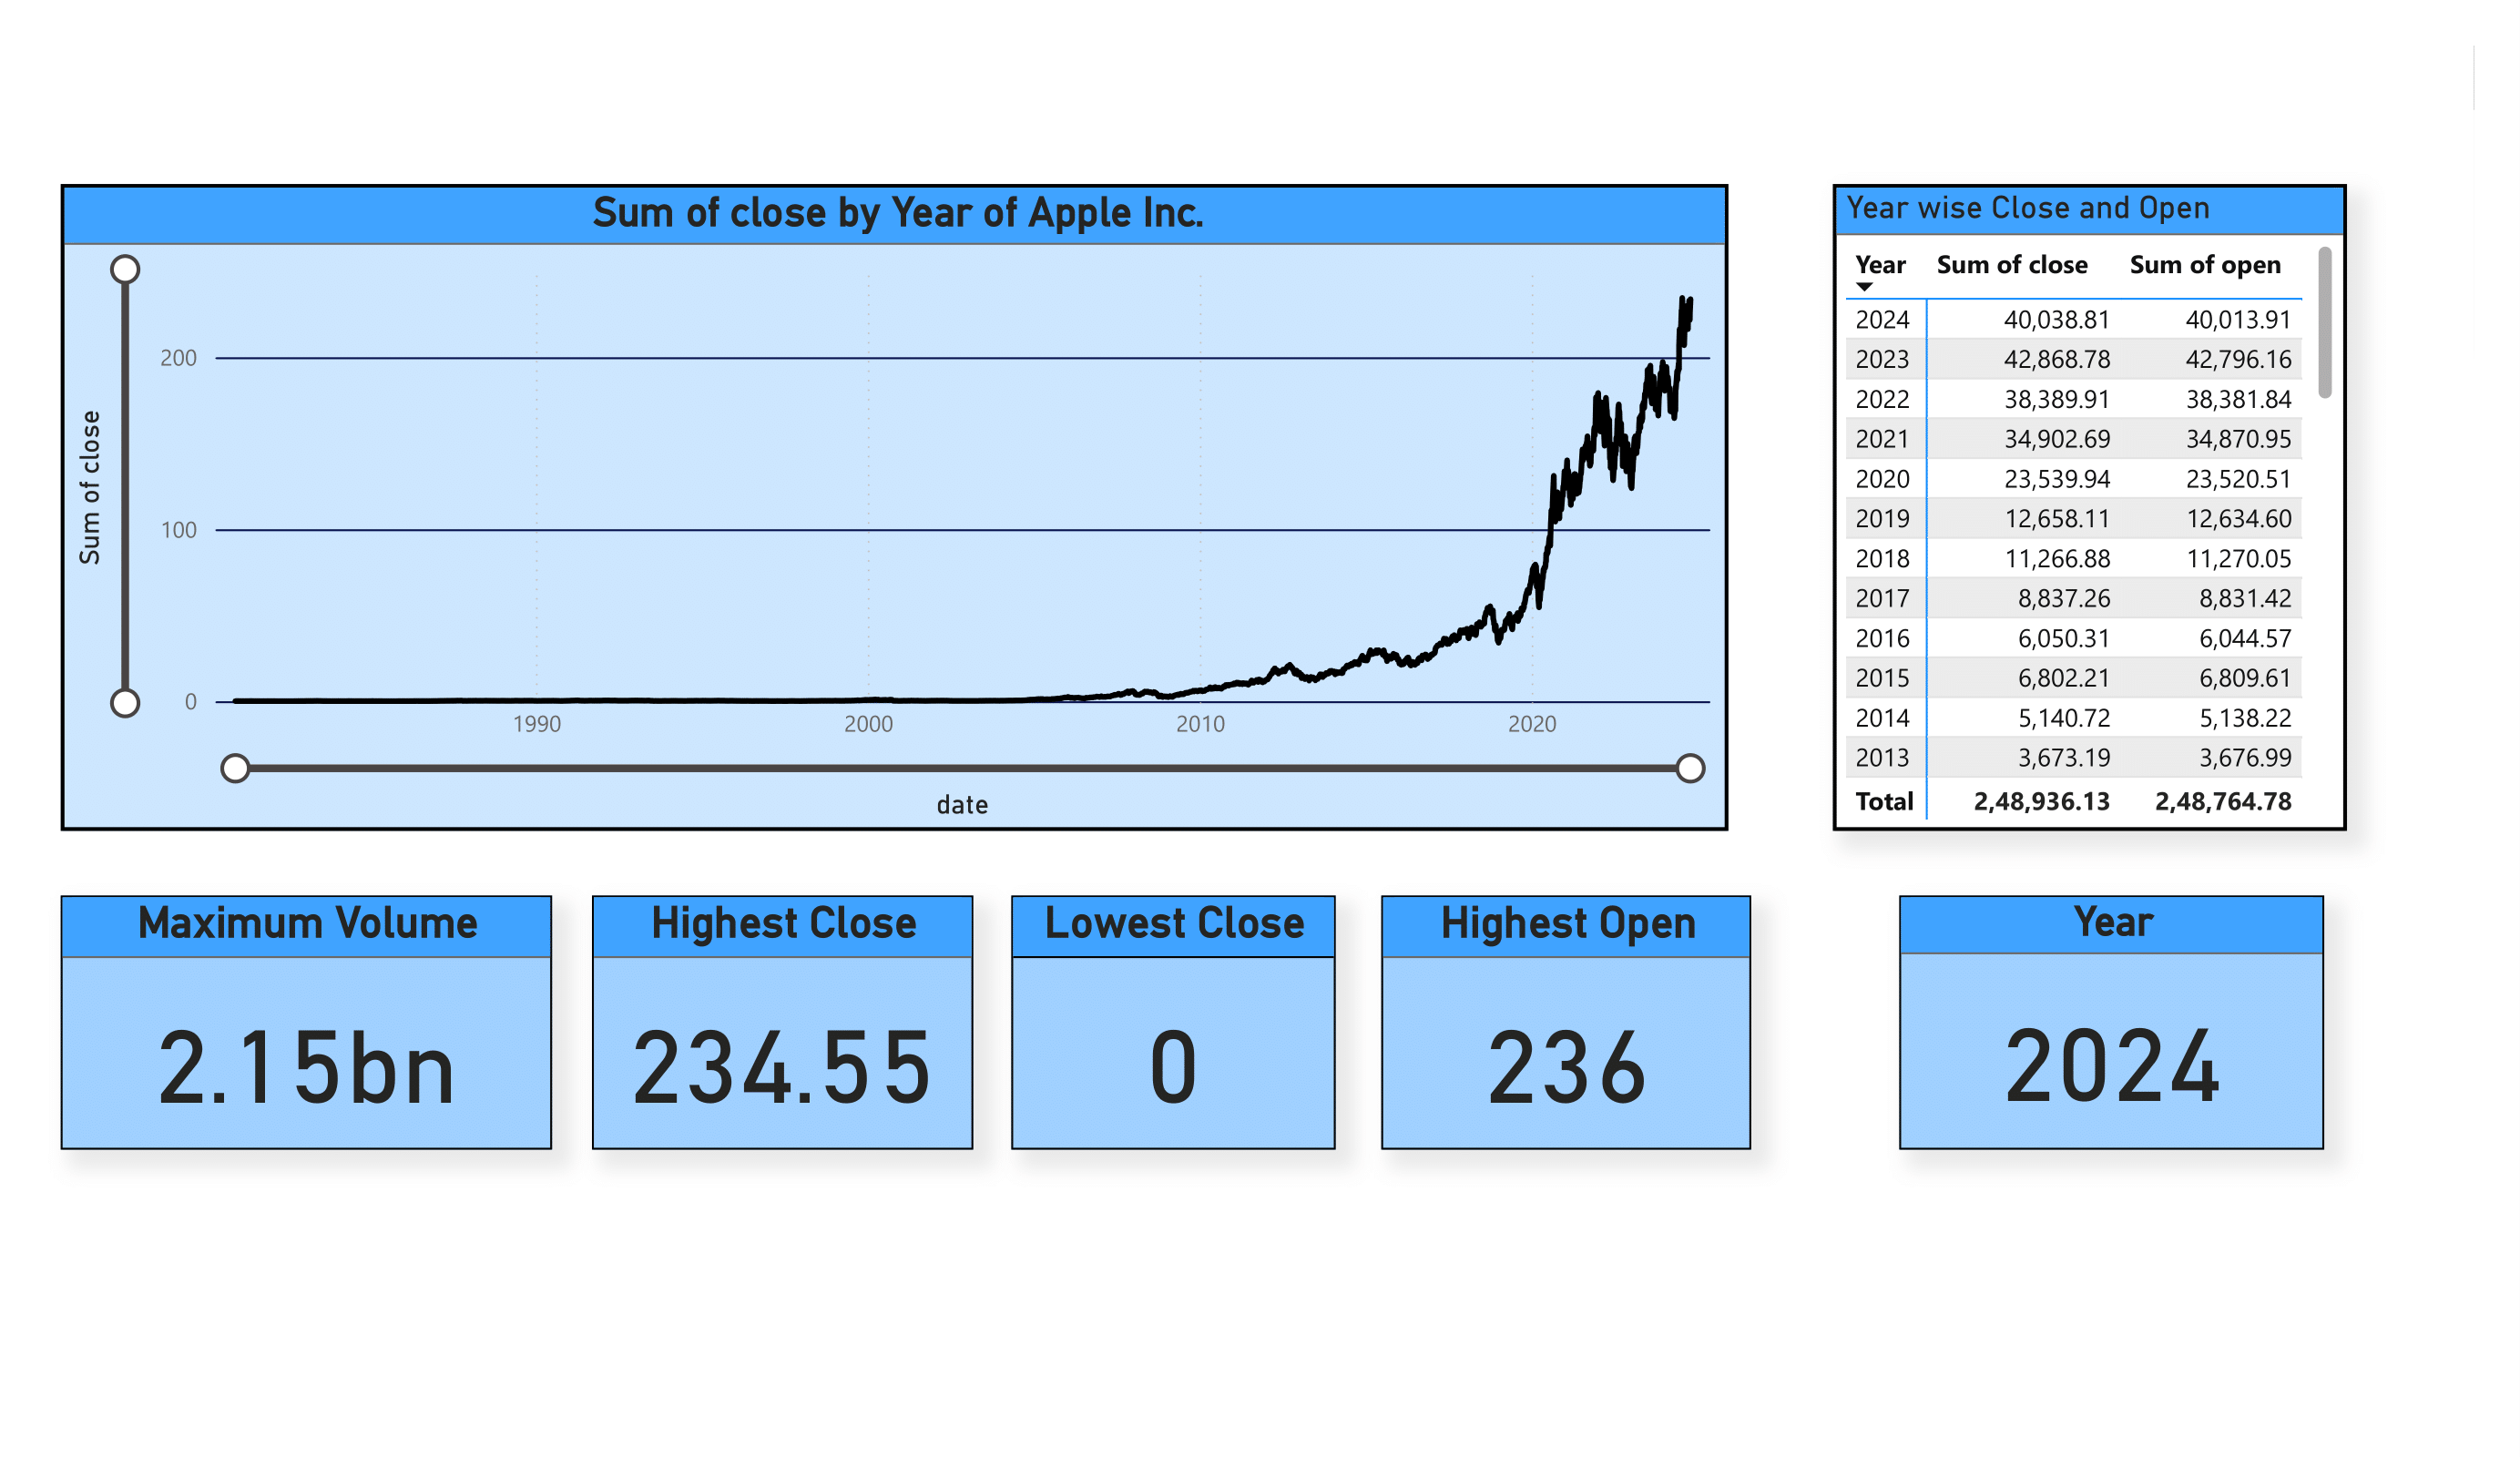

What the dashboard file says about the page in this screenshot:
{"tool":"powerbi","page":{"name":"Apple Inc","canvas":[1280,720],"ordinal":0},"visuals":[{"type":"lineChart","title":"Sum of close by Year of Apple Inc.","fields":{"Category":["Preprocessed_AAPL_Dataset.date","Preprocessed_AAPL_Dataset.date.Variation.Date Hierarchy.Month"],"Y":["Sum(Preprocessed_AAPL_Dataset.close)"]},"box":[7.6,73.1,879.1,341.3],"z":0},{"type":"card","title":"Maximum Volume","fields":{"Values":["Preprocessed_AAPL_Dataset.maximum_volume"]},"box":[7.6,447.9,259,134.1],"z":1000},{"type":"card","title":"Highest Close ","fields":{"Values":["Preprocessed_AAPL_Dataset.highest_close"]},"box":[288,447.9,201.1,134.1],"z":2000},{"type":"pivotTable","title":"Year wise Close and Open","fields":{"Rows":["Preprocessed_AAPL_Dataset.date.Variation.Date Hierarchy.Year"],"Values":["Sum(Preprocessed_AAPL_Dataset.close)","Sum(Preprocessed_AAPL_Dataset.open)"]},"box":[941.6,73.1,271.2,341.3],"z":3000},{"type":"card","title":"Highest Open","fields":{"Values":["Preprocessed_AAPL_Dataset.Highest_Open"]},"box":[703.9,447.9,195,134.1],"z":4000},{"type":"card","title":"Lowest Close ","fields":{"Values":["Preprocessed_AAPL_Dataset.Lowest_close"]},"box":[508.9,447.9,170.6,134.1],"z":5000},{"type":"card","title":"Year","fields":{"Values":["Max(Preprocessed_AAPL_Dataset.date)"]},"box":[976.6,447.9,224,134.1],"z":6000}]}

Visuals, with their boxes on the page's 1280x720 design canvas (x1, y1, x2, y2). These are canvas units, not pixel positions in the 2520x1457 screenshot, which may show the page scaled, cropped or inside an application window:
"Sum of close by Year of Apple Inc." lineChart: region(8, 73, 887, 414)
"Maximum Volume" card: region(8, 448, 267, 582)
"Highest Close " card: region(288, 448, 489, 582)
"Year wise Close and Open" pivotTable: region(942, 73, 1213, 414)
"Highest Open" card: region(704, 448, 899, 582)
"Lowest Close " card: region(509, 448, 680, 582)
"Year" card: region(977, 448, 1201, 582)
